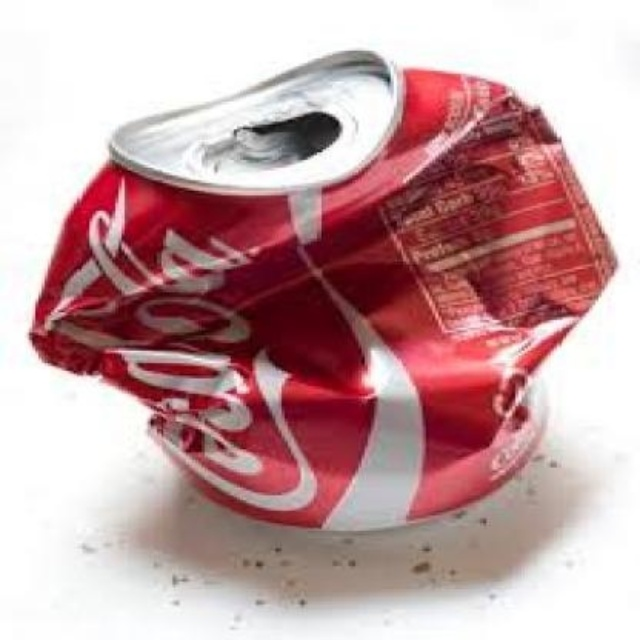trash: (31, 51, 614, 529)
